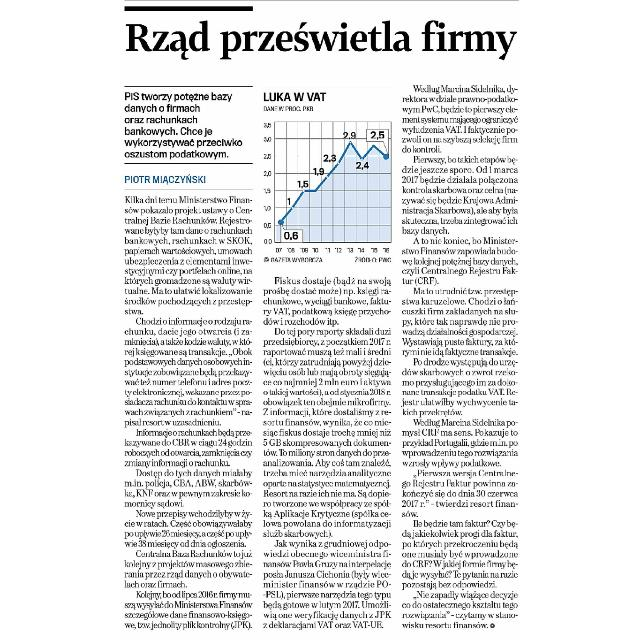author: (122, 170, 212, 188)
body: (398, 82, 520, 632), (121, 192, 257, 634), (260, 274, 394, 632)
caption: (258, 86, 334, 105)
image: (256, 117, 398, 256)
lead: (122, 89, 245, 161)
title: (122, 15, 518, 66)
